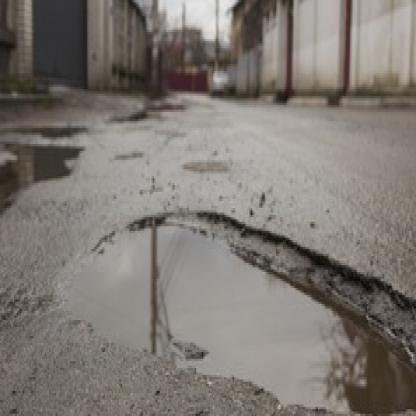pothole: (62, 206, 416, 414)
